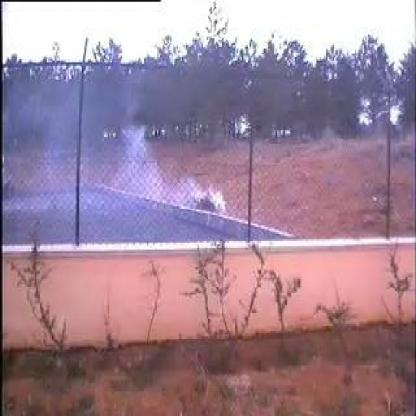-: (16, 89, 166, 242)
